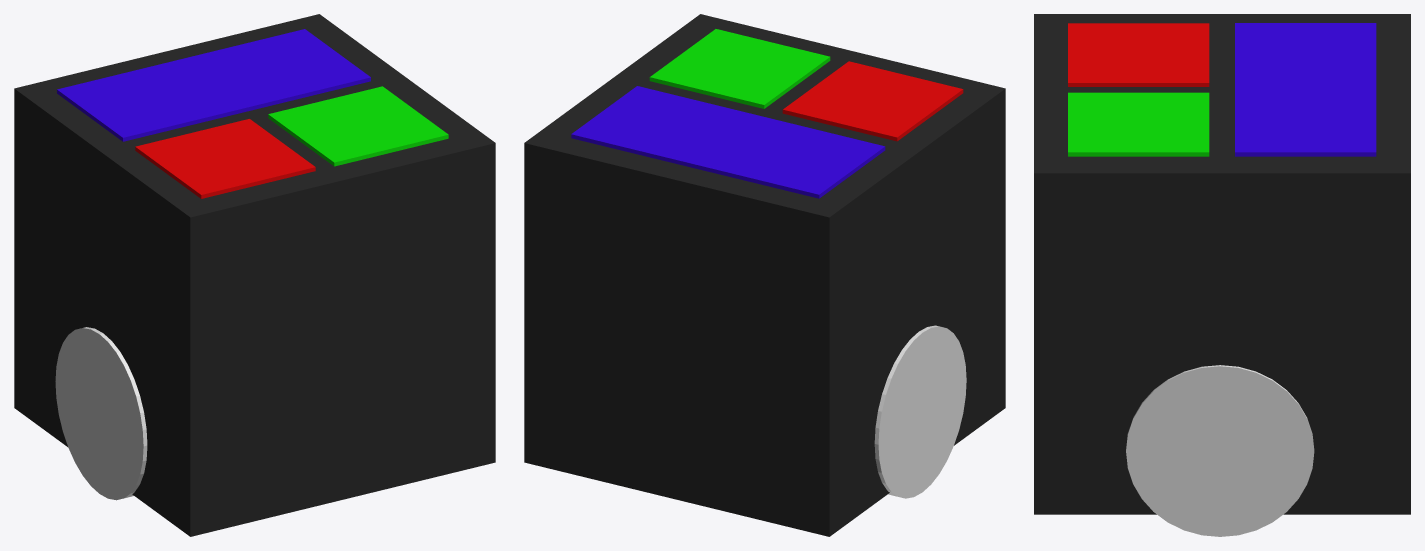
File: robo.glb
3 views of the same model, side by side, from view 1: azimuth 30°, elevation 25°; view 2: azimuth 150°, elevation 25°; view 3: azimuth 270°, elevation 25° (orthographic). The views are drawn at different scales.
Visible parts, largest first — view 1: robo, subTag1, roda, subTag2, TimeTag; view 2: robo, subTag1, roda, TimeTag, subTag2; view 3: robo, roda1, subTag1, subTag2, TimeTag.
Boxes of the visible parts, x1=… form: robo: x1=14, y1=14, x2=495, y2=536; subTag1: x1=57, y1=29, x2=370, y2=141; roda: x1=55, y1=327, x2=147, y2=500; subTag2: x1=268, y1=86, x2=448, y2=166; TimeTag: x1=135, y1=119, x2=315, y2=198; robo: x1=524, y1=14, x2=1005, y2=536; subTag1: x1=571, y1=86, x2=885, y2=198; roda: x1=874, y1=325, x2=966, y2=498; TimeTag: x1=782, y1=61, x2=963, y2=141; subTag2: x1=649, y1=29, x2=830, y2=108; robo: x1=1034, y1=14, x2=1410, y2=514; roda1: x1=1126, y1=365, x2=1314, y2=536; subTag1: x1=1235, y1=23, x2=1376, y2=156; subTag2: x1=1068, y1=92, x2=1209, y2=156; TimeTag: x1=1068, y1=23, x2=1209, y2=86.
Bounding box in the file's own units: 16.32 × 17.21 × 16.
